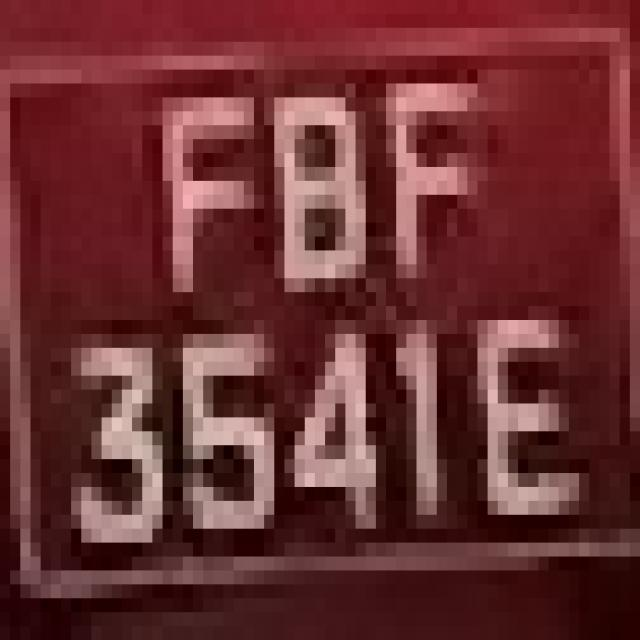1: (396, 278, 467, 543)
3: (51, 278, 162, 570)
4: (264, 292, 396, 571)
5: (153, 292, 284, 557)
B: (254, 84, 386, 306)
E: (447, 264, 579, 515)
F: (153, 69, 264, 334), (366, 70, 488, 306)
